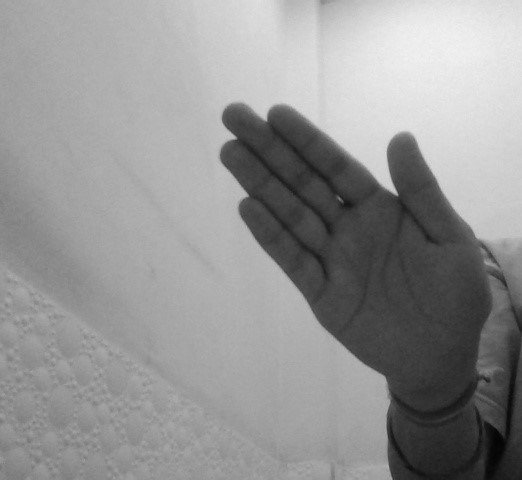Hello: (218, 99, 492, 378)
